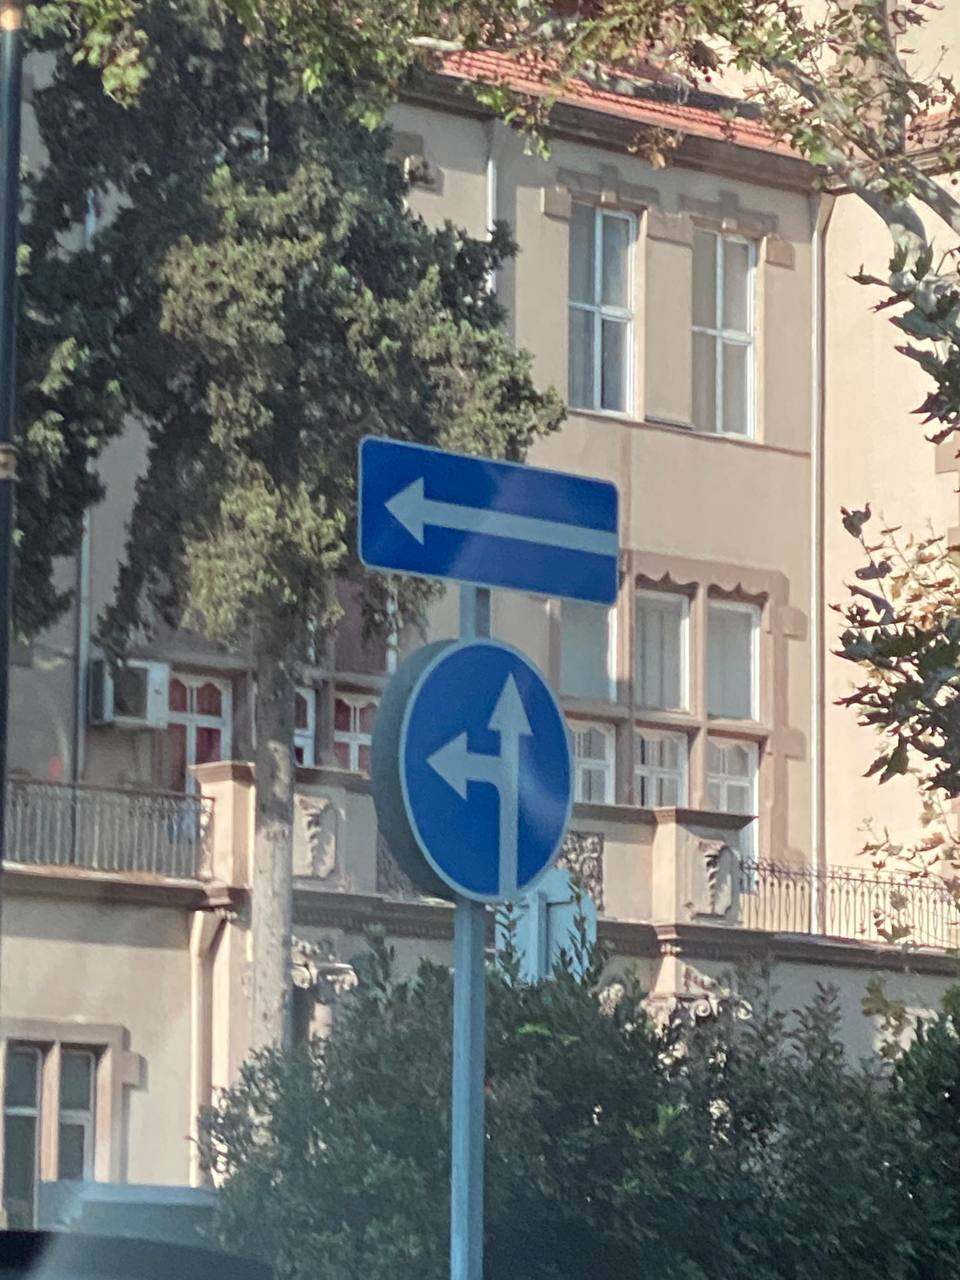One-Way Traffic: (358, 434, 619, 609)
Straight or Left: (400, 638, 573, 903)
